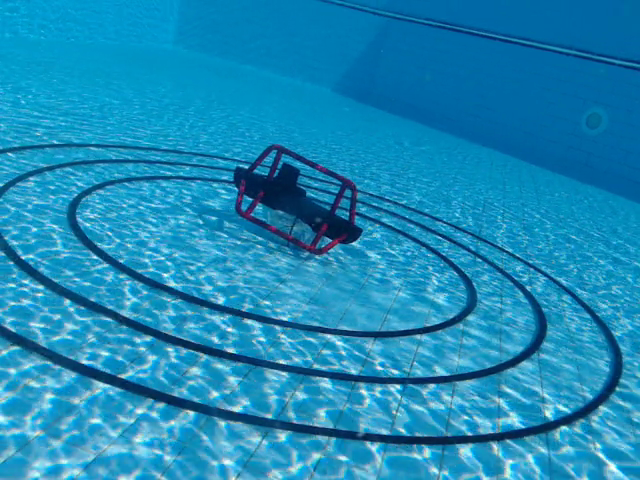submarine: (231, 143, 366, 256)
